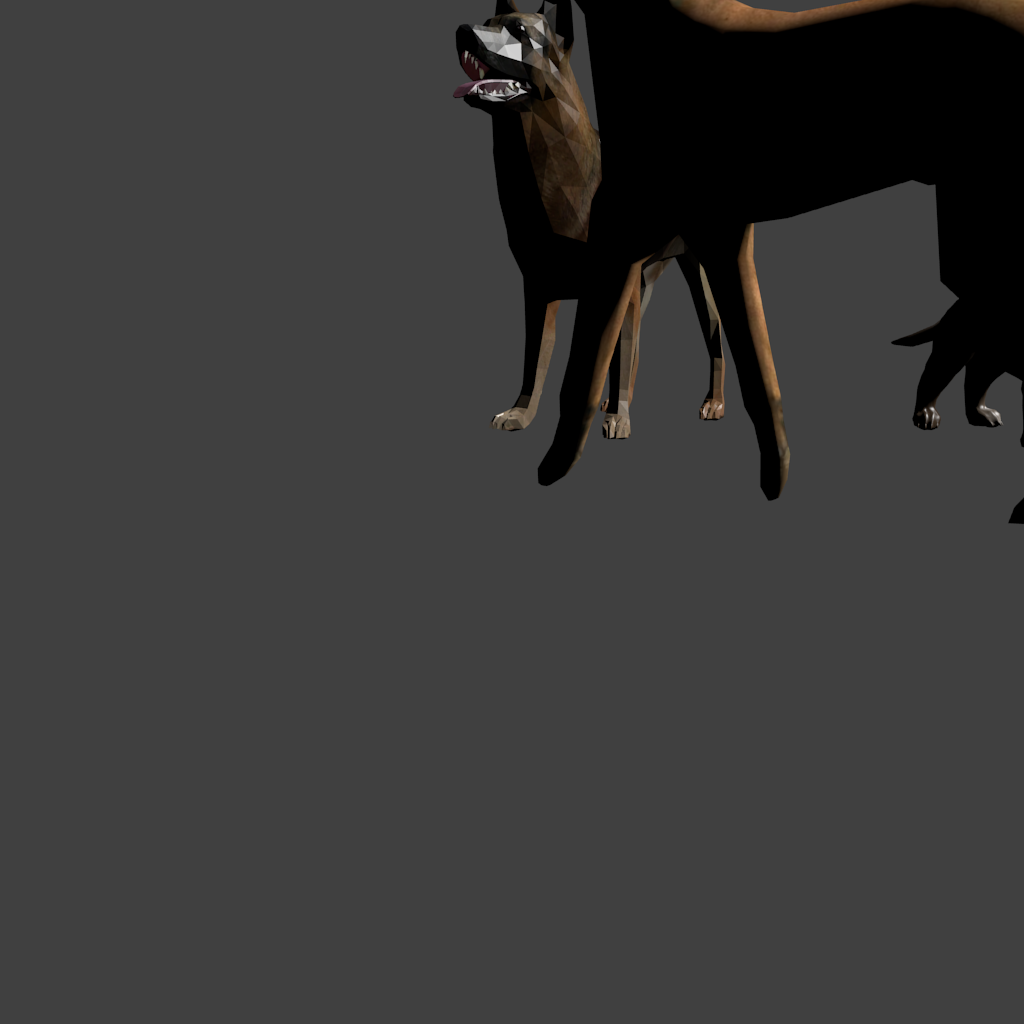Dog: (504, 0, 520, 551)
